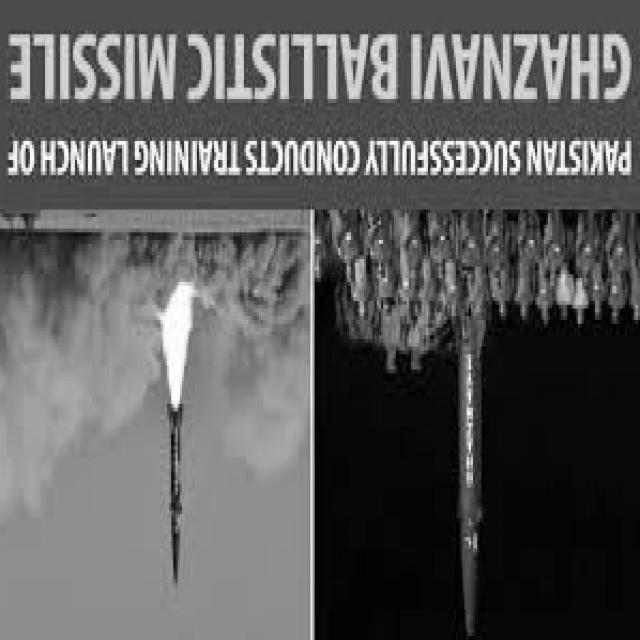missile: (451, 313, 486, 640), (162, 401, 185, 591)
